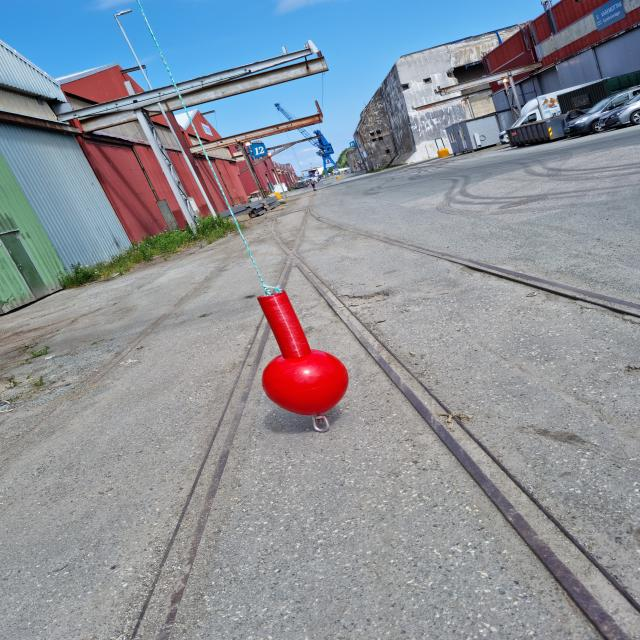red: (257, 290, 348, 417)
